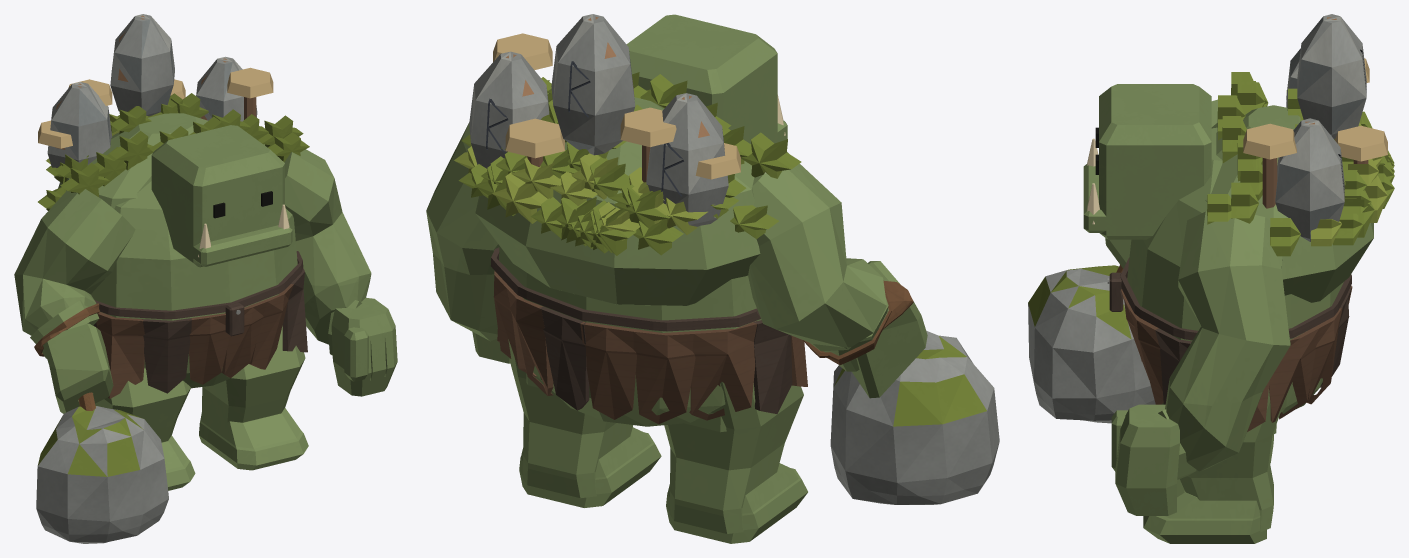
File: host_06.glb
3 renders of one model, left to right at view 1: azimuth 30°, elevation 25°; view 2: azimuth 150°, elevation 25°; view 3: azimuth 270°, elevation 25°, orthographic. The views are drawn at different scales.
Parts seen in each view (by area): view 1: Body — continuous source torso, four joints and planted legs, Weapon — low source broad stone hammer head, Head — complete continuous skull and neck, Clothing — broad source ragged leather skirt, Garden finish — joined source irregular leaf mantle, Hand — LEFT connected source fist and wrist, Garden — real rune stone 2, Hand — RIGHT source compact planar grasp, Garden — real rune stone 3, Clothing — fitted thin leather waist belt, Garden — real rune stone 1, Garden — flat hexagonal cap 0 (+3 smaller); view 2: Body — continuous source torso, four joints and planted legs, Clothing — broad source ragged leather skirt, Weapon — low source broad stone hammer head, Garden finish — joined source irregular leaf mantle, Head — complete continuous skull and neck, Garden — real rune stone 2, Garden — real rune stone 3, Garden — real rune stone 1, Hand — RIGHT source compact planar grasp, Clothing — fitted thin leather waist belt, Garden — flat hexagonal cap 2, Garden — flat hexagonal cap 1 (+3 smaller); view 3: Body — continuous source torso, four joints and planted legs, Head — complete continuous skull and neck, Weapon — low source broad stone hammer head, Garden finish — joined source irregular leaf mantle, Clothing — broad source ragged leather skirt, Hand — LEFT connected source fist and wrist, Garden — real rune stone 2, Garden — real rune stone 1, Clothing — fitted thin leather waist belt, Garden — flat hexagonal cap 0, Garden — flat hexagonal cap 2, Garden — mushroom stem 0 (+2 smaller).
Part boxes in pixels (x1,y1,x2,y2): Body — continuous source torso, four joints and planted legs: [14, 113, 371, 490]; Weapon — low source broad stone hammer head: [36, 406, 168, 543]; Head — complete continuous skull and neck: [151, 125, 292, 267]; Clothing — broad source ragged leather skirt: [93, 268, 307, 398]; Garden finish — joined source irregular leaf mantle: [38, 93, 309, 210]; Hand — LEFT connected source fist and wrist: [328, 298, 397, 396]; Garden — real rune stone 2: [110, 14, 174, 116]; Hand — RIGHT source compact planar grasp: [43, 323, 113, 413]; Garden — real rune stone 3: [47, 82, 112, 182]; Clothing — fitted thin leather waist belt: [94, 251, 303, 319]; Garden — real rune stone 1: [196, 56, 257, 121]; Garden — flat hexagonal cap 0: [227, 67, 273, 98]; Body — continuous source torso, four joints and planted legs: [426, 97, 888, 543]; Clothing — broad source ragged leather skirt: [493, 271, 807, 424]; Weapon — low source broad stone hammer head: [830, 331, 999, 504]; Garden finish — joined source irregular leaf mantle: [454, 72, 801, 255]; Head — complete continuous skull and neck: [626, 14, 787, 143]; Garden — real rune stone 2: [551, 14, 635, 155]; Garden — real rune stone 3: [646, 93, 728, 226]; Garden — real rune stone 1: [469, 51, 549, 168]; Hand — RIGHT source compact planar grasp: [839, 261, 927, 398]; Clothing — fitted thin leather waist belt: [490, 247, 760, 331]; Garden — flat hexagonal cap 2: [505, 118, 564, 158]; Garden — flat hexagonal cap 1: [620, 107, 676, 147]; Body — continuous source torso, four joints and planted legs: [1127, 99, 1373, 543]; Head — complete continuous skull and neck: [1083, 84, 1211, 239]; Weapon — low source broad stone hammer head: [1028, 265, 1155, 423]; Garden finish — joined source irregular leaf mantle: [1207, 72, 1394, 256]; Clothing — broad source ragged leather skirt: [1121, 278, 1352, 431]; Hand — LEFT connected source fist and wrist: [1111, 404, 1196, 515]; Garden — real rune stone 2: [1297, 14, 1366, 138]; Garden — real rune stone 1: [1275, 118, 1344, 241]; Clothing — fitted thin leather waist belt: [1120, 257, 1351, 340]; Garden — flat hexagonal cap 0: [1243, 123, 1296, 159]; Garden — flat hexagonal cap 2: [1335, 125, 1387, 161]; Garden — mushroom stem 0: [1262, 158, 1277, 208].
Size of the model in its own units: 3.58 by 3.66 by 2.56.
Materials: 29 (26 with a texture image).
